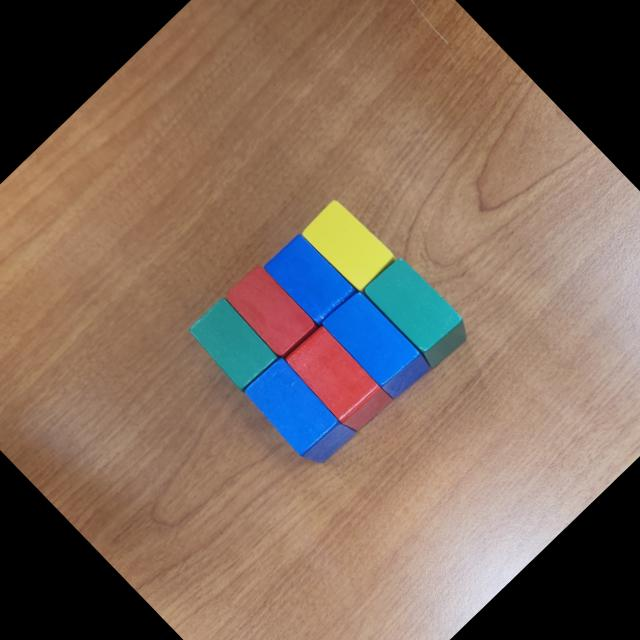blue: (239, 352, 359, 474), (318, 285, 438, 406), (262, 230, 361, 328)
green: (358, 252, 478, 372), (185, 294, 282, 393)
red: (281, 322, 395, 438), (222, 262, 319, 360)
yellow: (300, 195, 398, 294)
